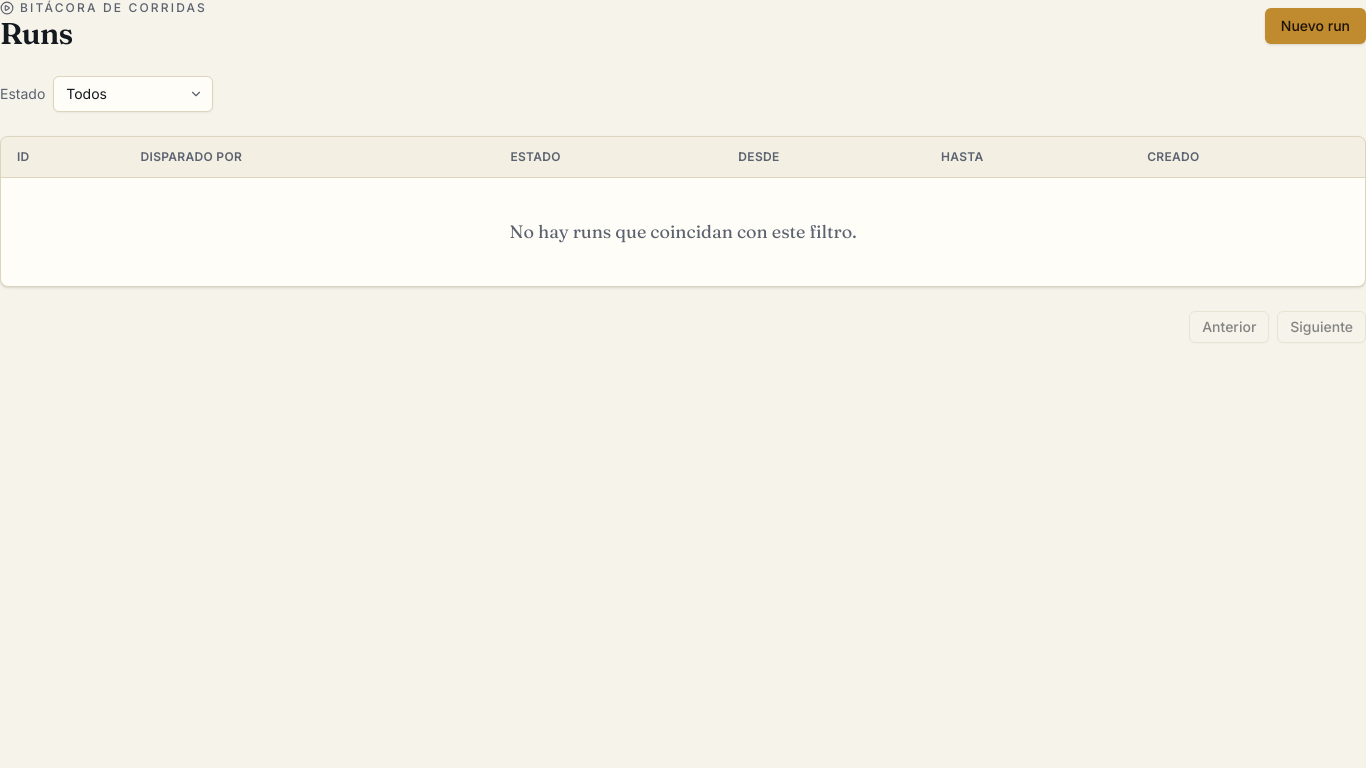
it: RunsPage — new run › indicates whether each source filters by fecha de publicación or providencia
What coordinates should you click on to do the following:
click the button "Nuevo run"
I would click on:
 (1315, 26)
Its box is [1265, 8, 1365, 44].
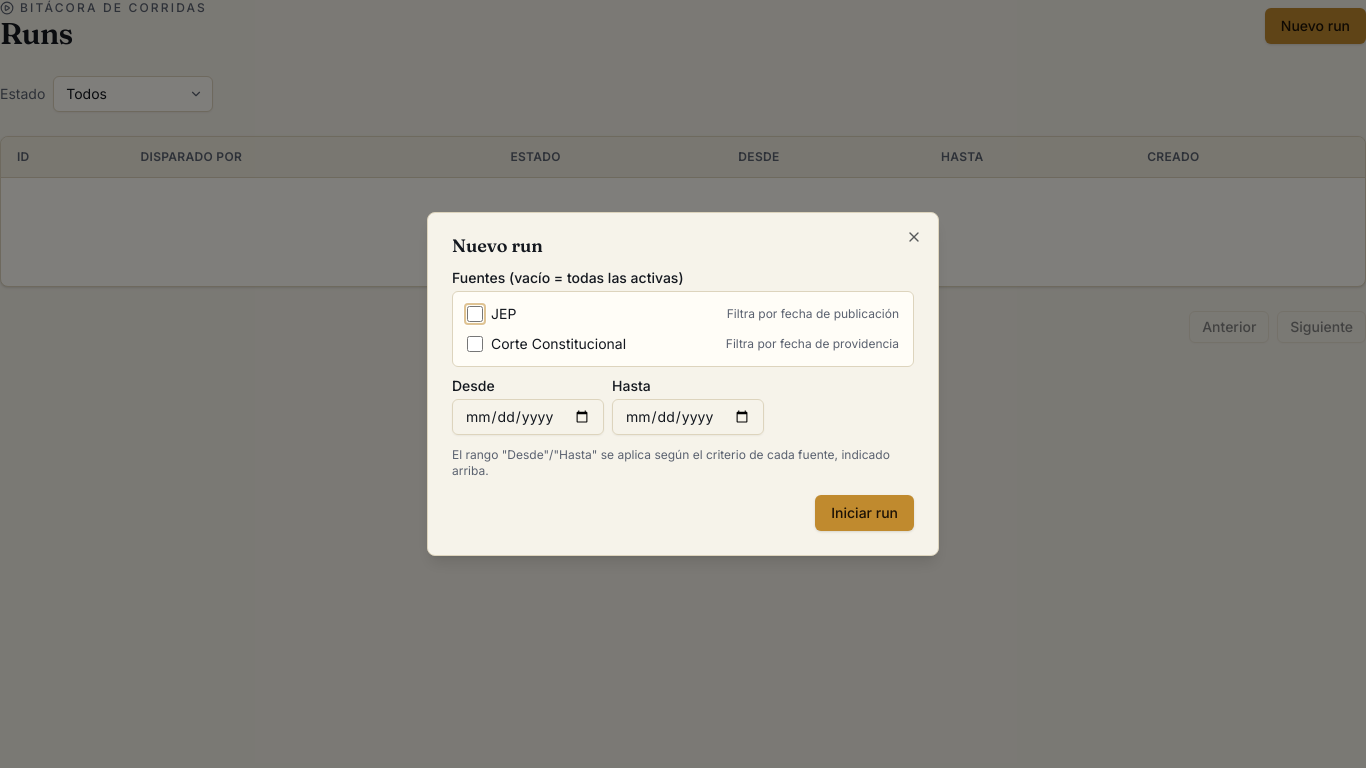
Check: the checkbox labelled "JEP" is shown, box [467, 306, 483, 322]
Check: the label labelled "JEP" shows "Filtra por fecha de publicación", box [461, 300, 905, 328]
Check: the label labelled "Corte Constitucional" shows "Filtra por fecha de providencia", box [461, 330, 905, 358]
